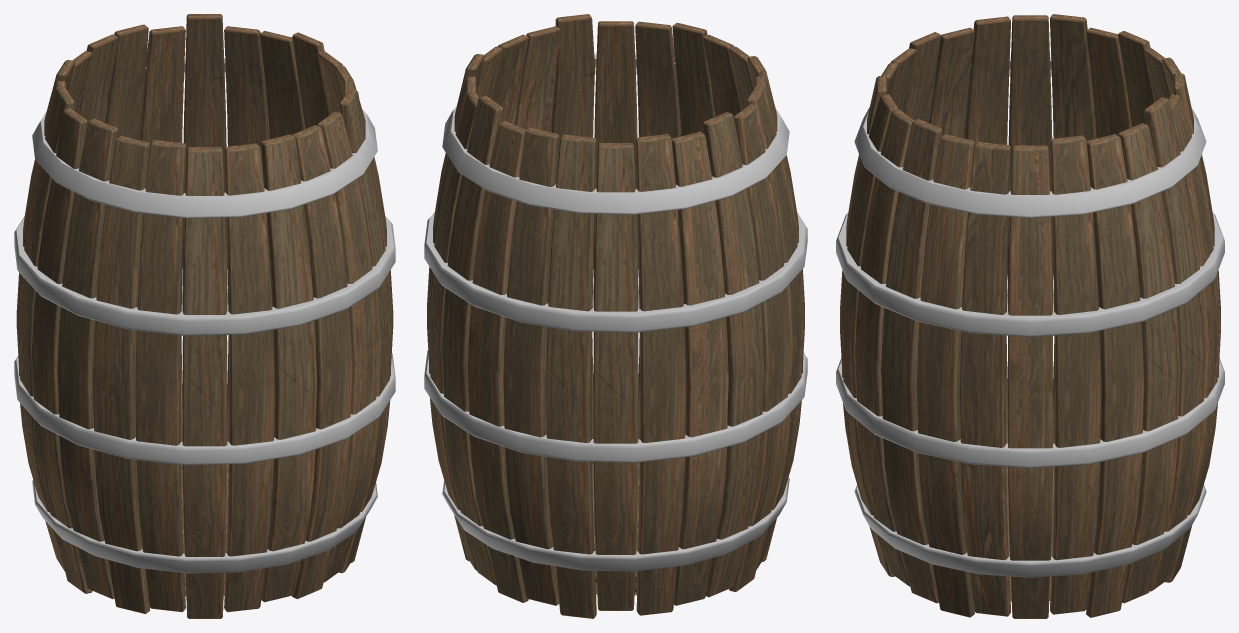
File: SM_Barrel_02.fbx
3 renders of one model, left to right at view 1: azimuth 30°, elevation 25°; view 2: azimuth 150°, elevation 25°; view 3: azimuth 270°, elevation 25°, orthographic.
Visible parts, largest first — view 1: SM_Barrel_02_LOD0; view 2: SM_Barrel_02_LOD0; view 3: SM_Barrel_02_LOD0.
Boxes of the visible parts, x1,y1,x2,y2 form: SM_Barrel_02_LOD0: (14,14,395,618); SM_Barrel_02_LOD0: (424,14,807,618); SM_Barrel_02_LOD0: (836,14,1224,618).
Bounding box in the file's own units: 72.03 × 72.03 × 100.
